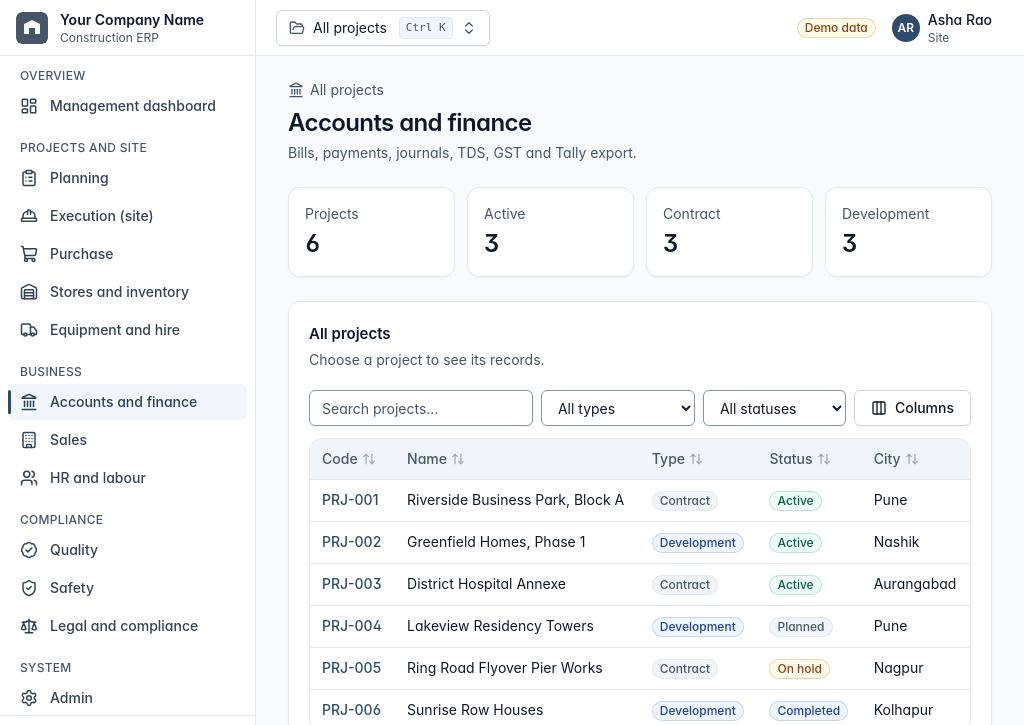
Test: must change password › can also be opened from the account menu, with Cancel back to the app
Later steps or results of the test are not shown.
Expected: the heading "Accounts and finance" is shown, [288,108,532,137]
Click the button with aria-label "Account menu for Asha Rao". click: (946, 28)
box: [888,10,1004,46]
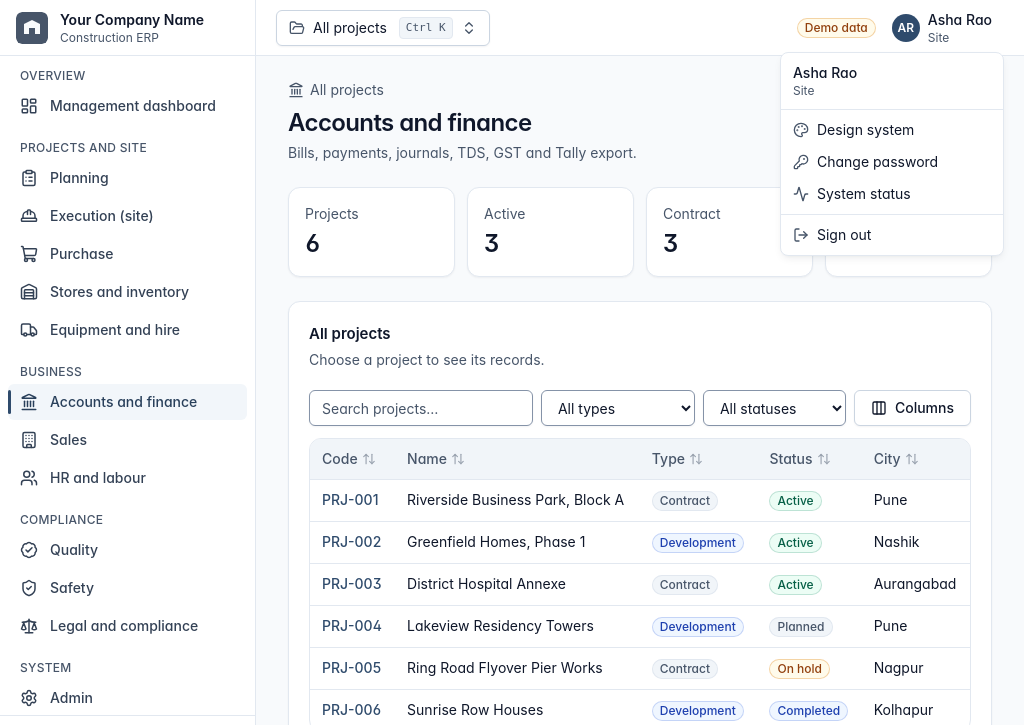
Click the menu item "Change password". click: (866, 162)
box: [793,153,938,170]
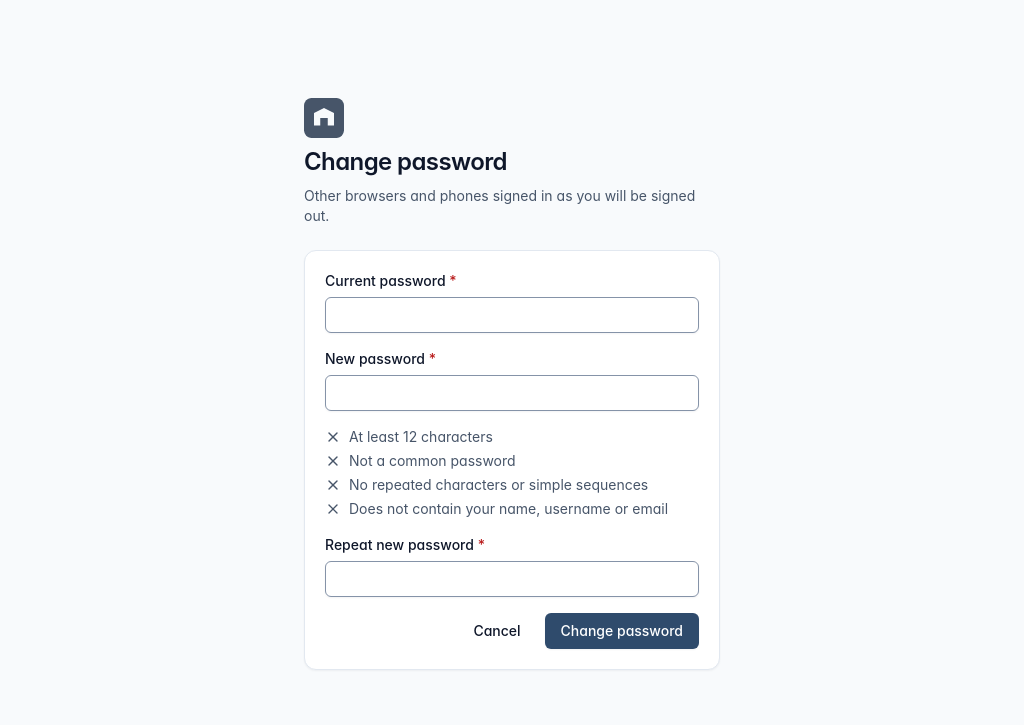
Expected: the heading "Change password" is shown, [304,147,507,176]
